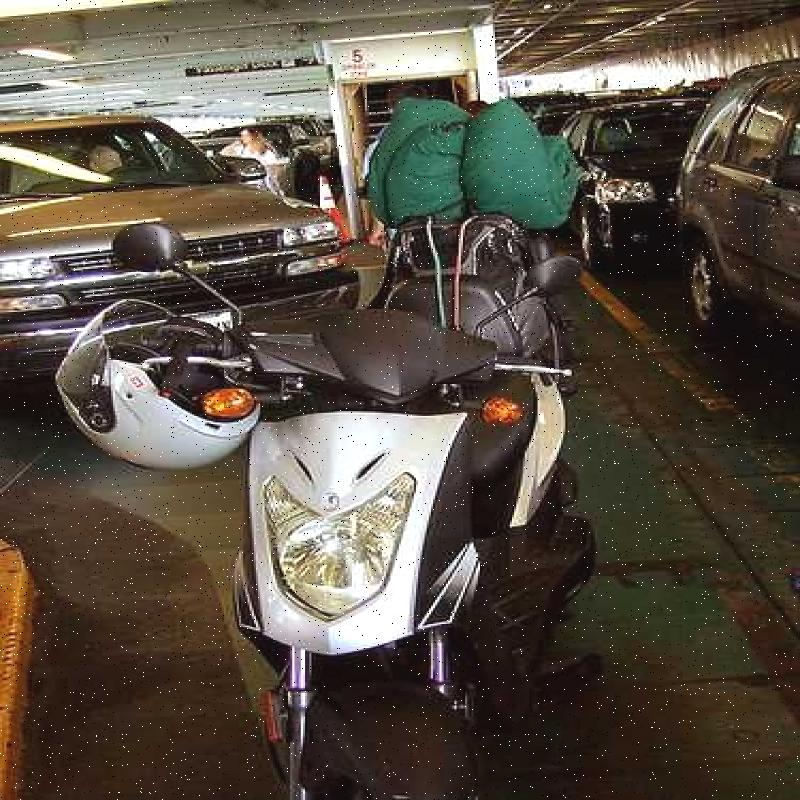bike: (174, 217, 578, 769)
